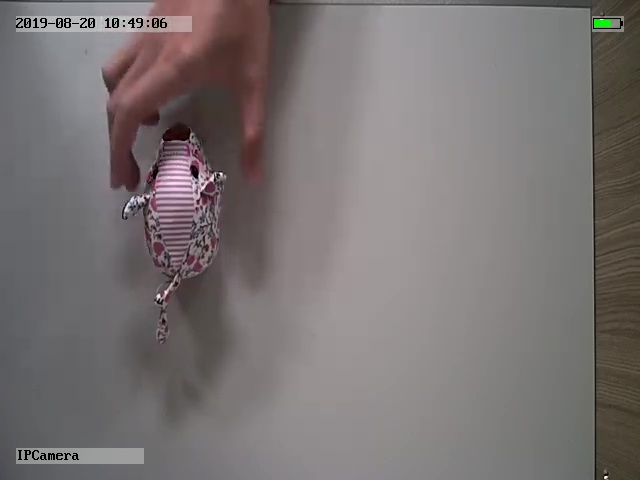pig: (123, 123, 228, 344)
